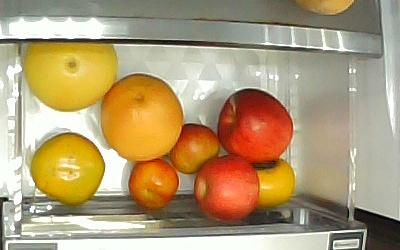apple: (216, 88, 294, 161), (194, 154, 260, 223)
grapefruit: (100, 73, 184, 161), (23, 42, 119, 112)
persimmon: (30, 133, 105, 206), (251, 158, 296, 210)
prune: (169, 122, 220, 175), (127, 159, 179, 210)
